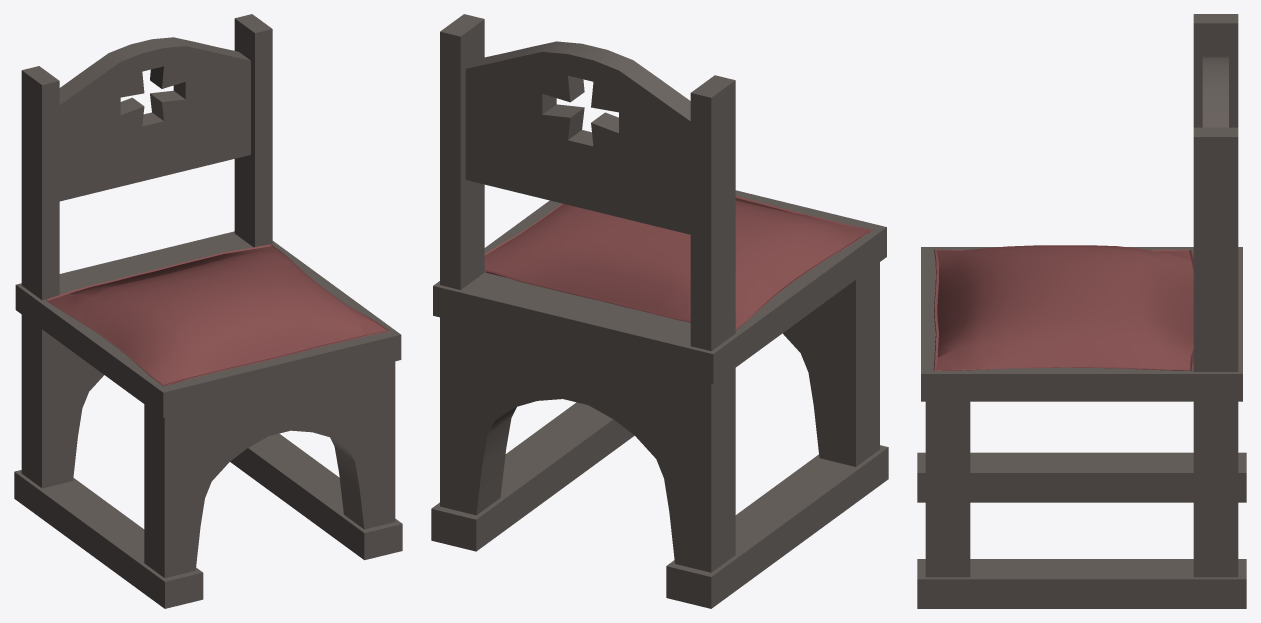
Rendered from Chair_low.fbx.
3 renders of one model, left to right at view 1: azimuth 30°, elevation 25°; view 2: azimuth 150°, elevation 25°; view 3: azimuth 270°, elevation 25°, orthographic. The views are drawn at different scales.
Parts seen in each view (by area): view 1: Chair_low; view 2: Chair_low; view 3: Chair_low.
Boxes of the visible parts, <box> form: Chair_low: <box>14,14,402,608</box>; Chair_low: <box>431,14,888,608</box>; Chair_low: <box>917,14,1246,608</box>.
Bounding box in the file's own units: 59.76 × 104 × 65.54.
